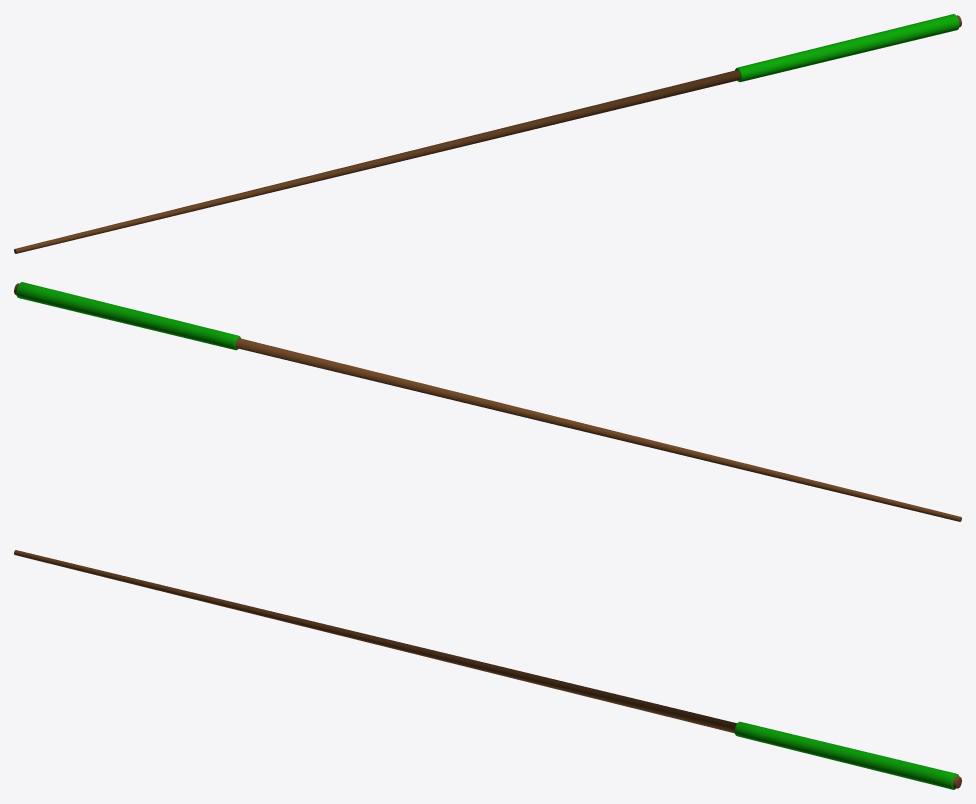
Rendered from FISHING_ROD.glb.
The picture shows the model from 3 angles, top to bottom: view 1: azimuth 30°, elevation 25°; view 2: azimuth 150°, elevation 25°; view 3: azimuth 330°, elevation 25°; orthographic projection.
Parts seen in each view (by area): view 1: Circle.001; view 2: Circle.001; view 3: Circle.001.
Part boxes in pixels (<box>): Circle.001: <box>14,14,961,253</box>; Circle.001: <box>14,282,961,521</box>; Circle.001: <box>14,550,961,789</box>.
Bounding box in the file's own units: 3.77 × 0.0575 × 0.0575.
